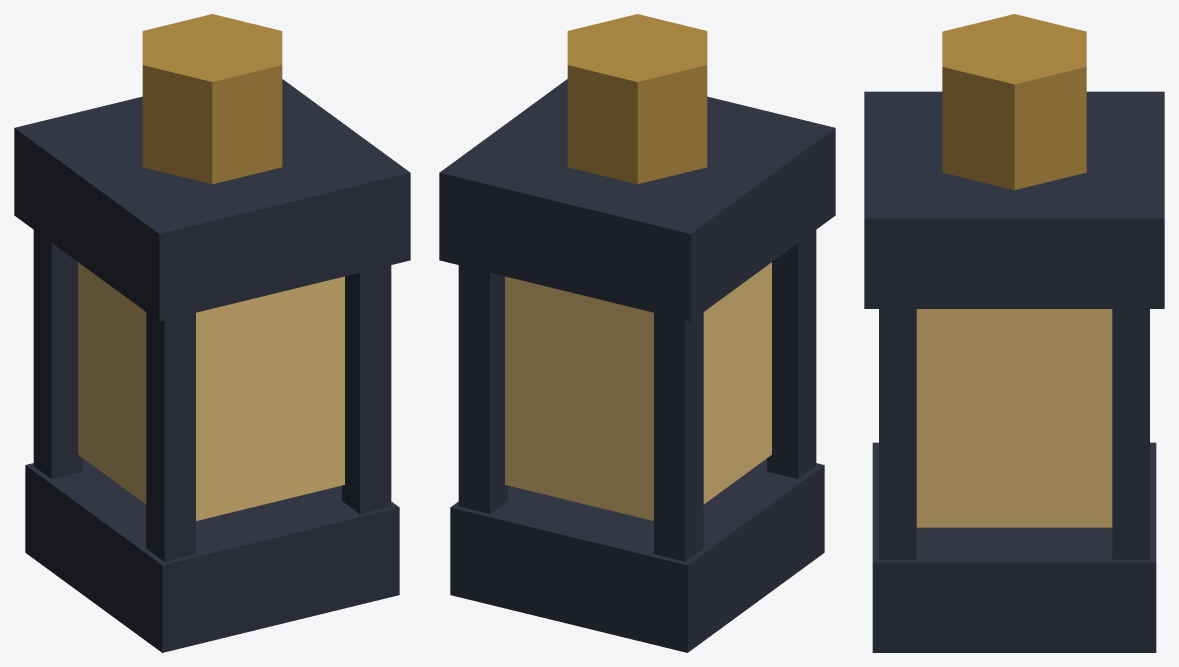
The model's file is lantern.obj.
The picture shows the model from 3 angles, left to right: view 1: azimuth 30°, elevation 25°; view 2: azimuth 150°, elevation 25°; view 3: azimuth 270°, elevation 25°; orthographic projection. The views are drawn at different scales.
Visible parts, largest first — view 1: lantern; view 2: lantern; view 3: lantern.
Boxes of the visible parts, box(x1,y1,x2,y2) form: lantern: box(14, 14, 410, 652); lantern: box(439, 14, 835, 652); lantern: box(864, 14, 1164, 652).
Size of the model in its own units: 0.36 by 0.72 by 0.36.
